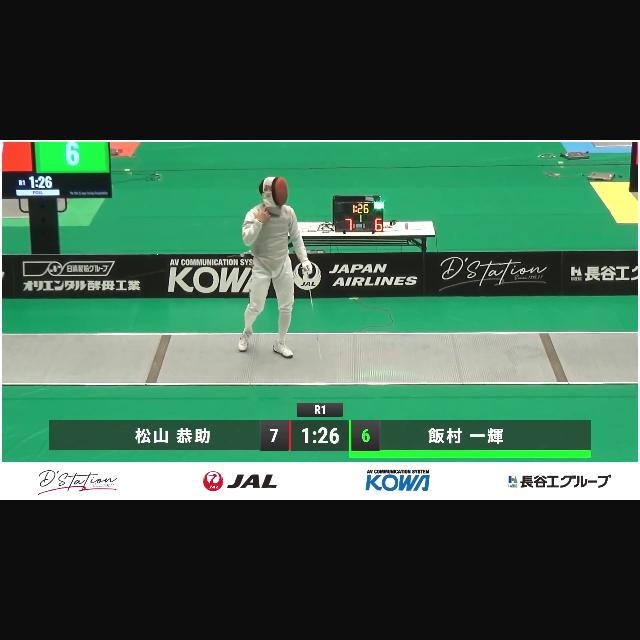blade: (303, 264, 333, 364)
